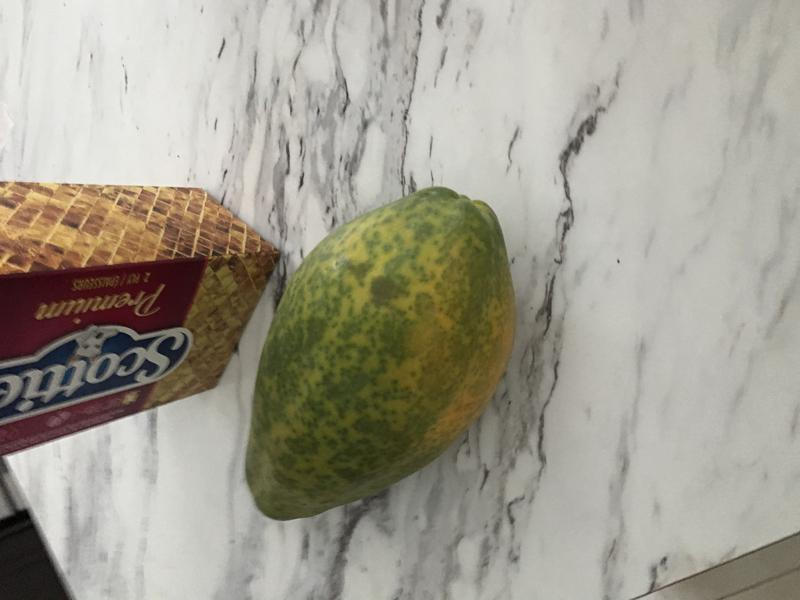papaya: (235, 177, 528, 532)
